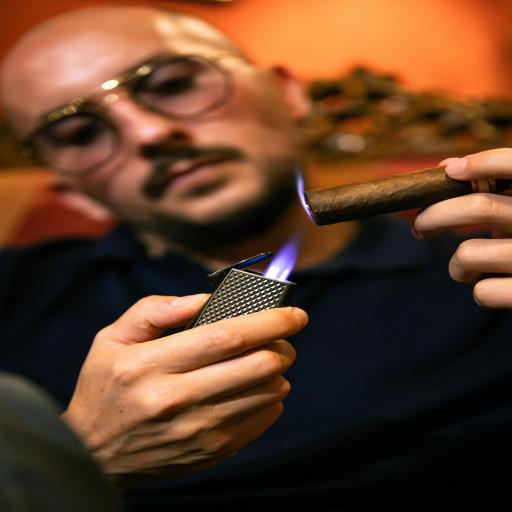lighter: (187, 200, 318, 346)
